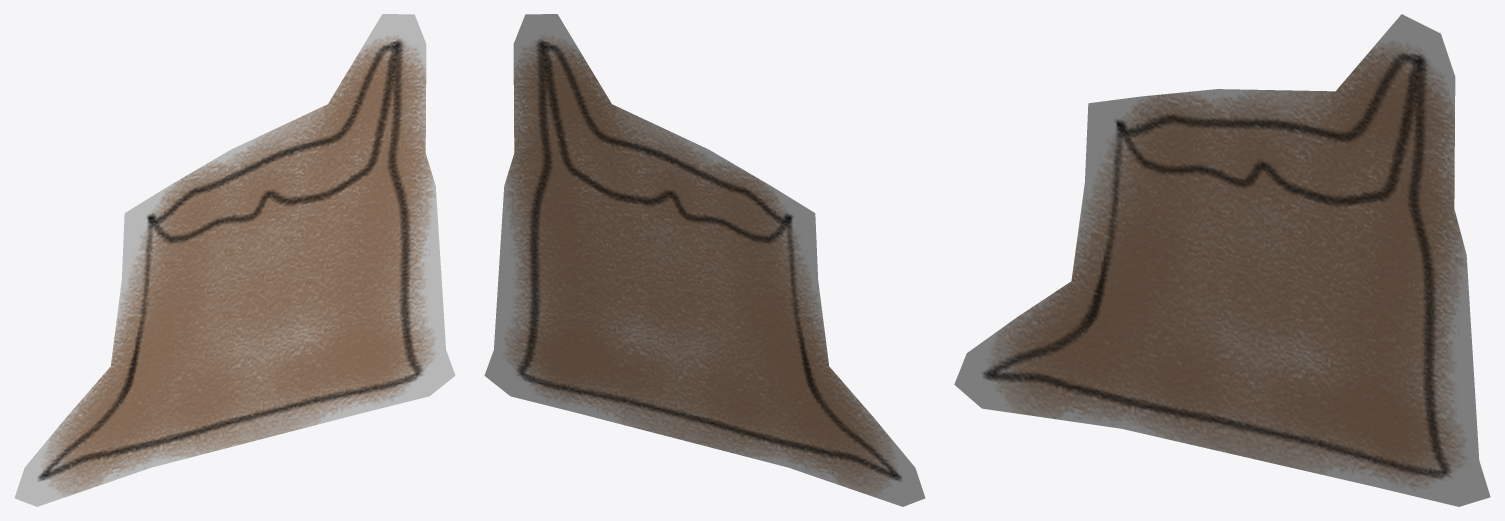
The model's file is Stock.fbx.
3 renders of one model, left to right at view 1: azimuth 30°, elevation 25°; view 2: azimuth 150°, elevation 25°; view 3: azimuth 330°, elevation 25°, orthographic. The views are drawn at different scales.
Parts seen in each view (by area): view 1: Stock; view 2: Stock; view 3: Stock.
Boxes of the visible parts, <box> form: Stock: <box>14,14,455,506</box>; Stock: <box>484,14,925,506</box>; Stock: <box>954,14,1490,506</box>.
Size of the model in its own units: 30.62 by 27.11 by 4.39e-06.
